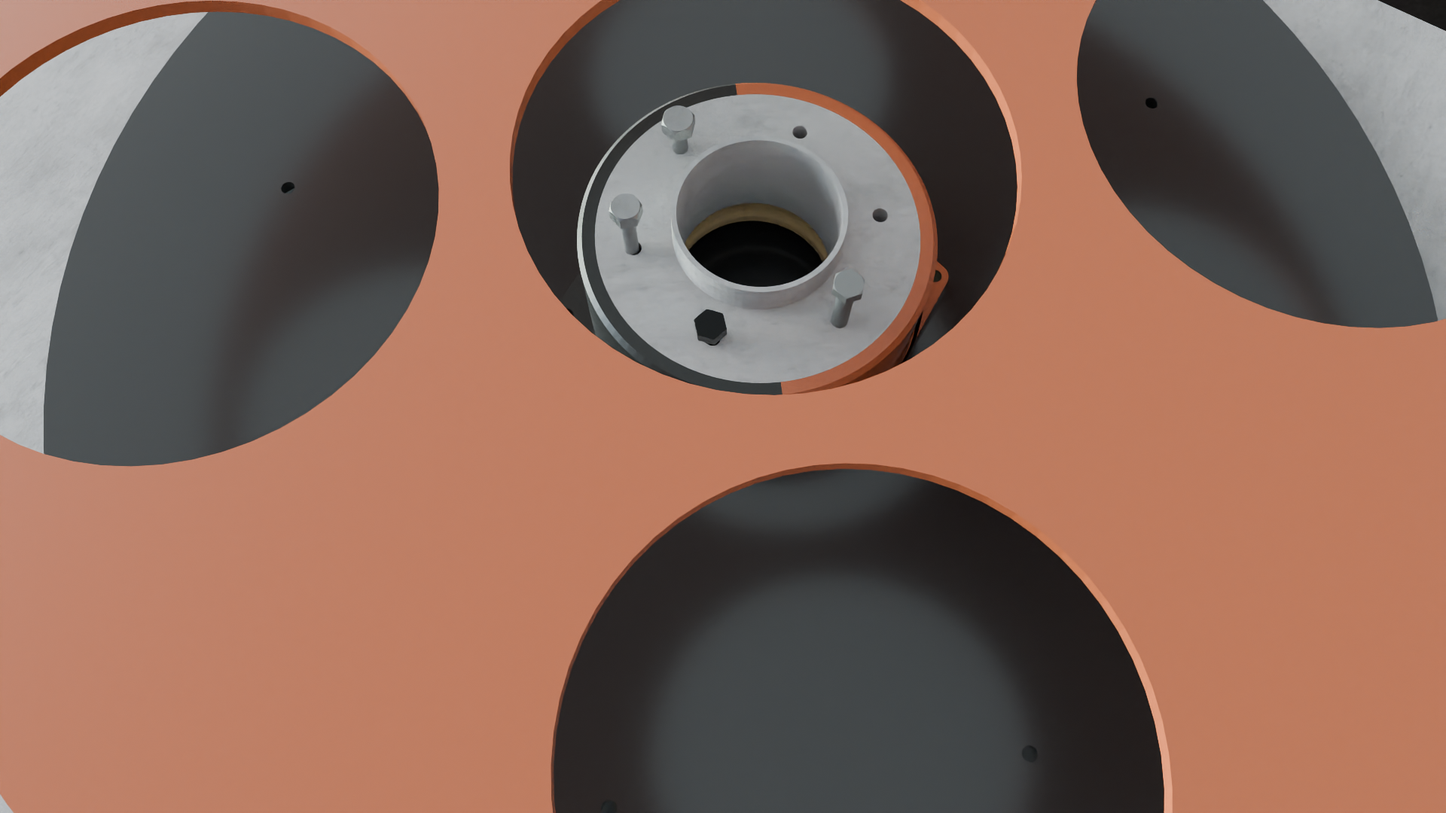bolt: (694, 309, 727, 340), (661, 105, 694, 135), (833, 269, 865, 299), (609, 193, 642, 222)
